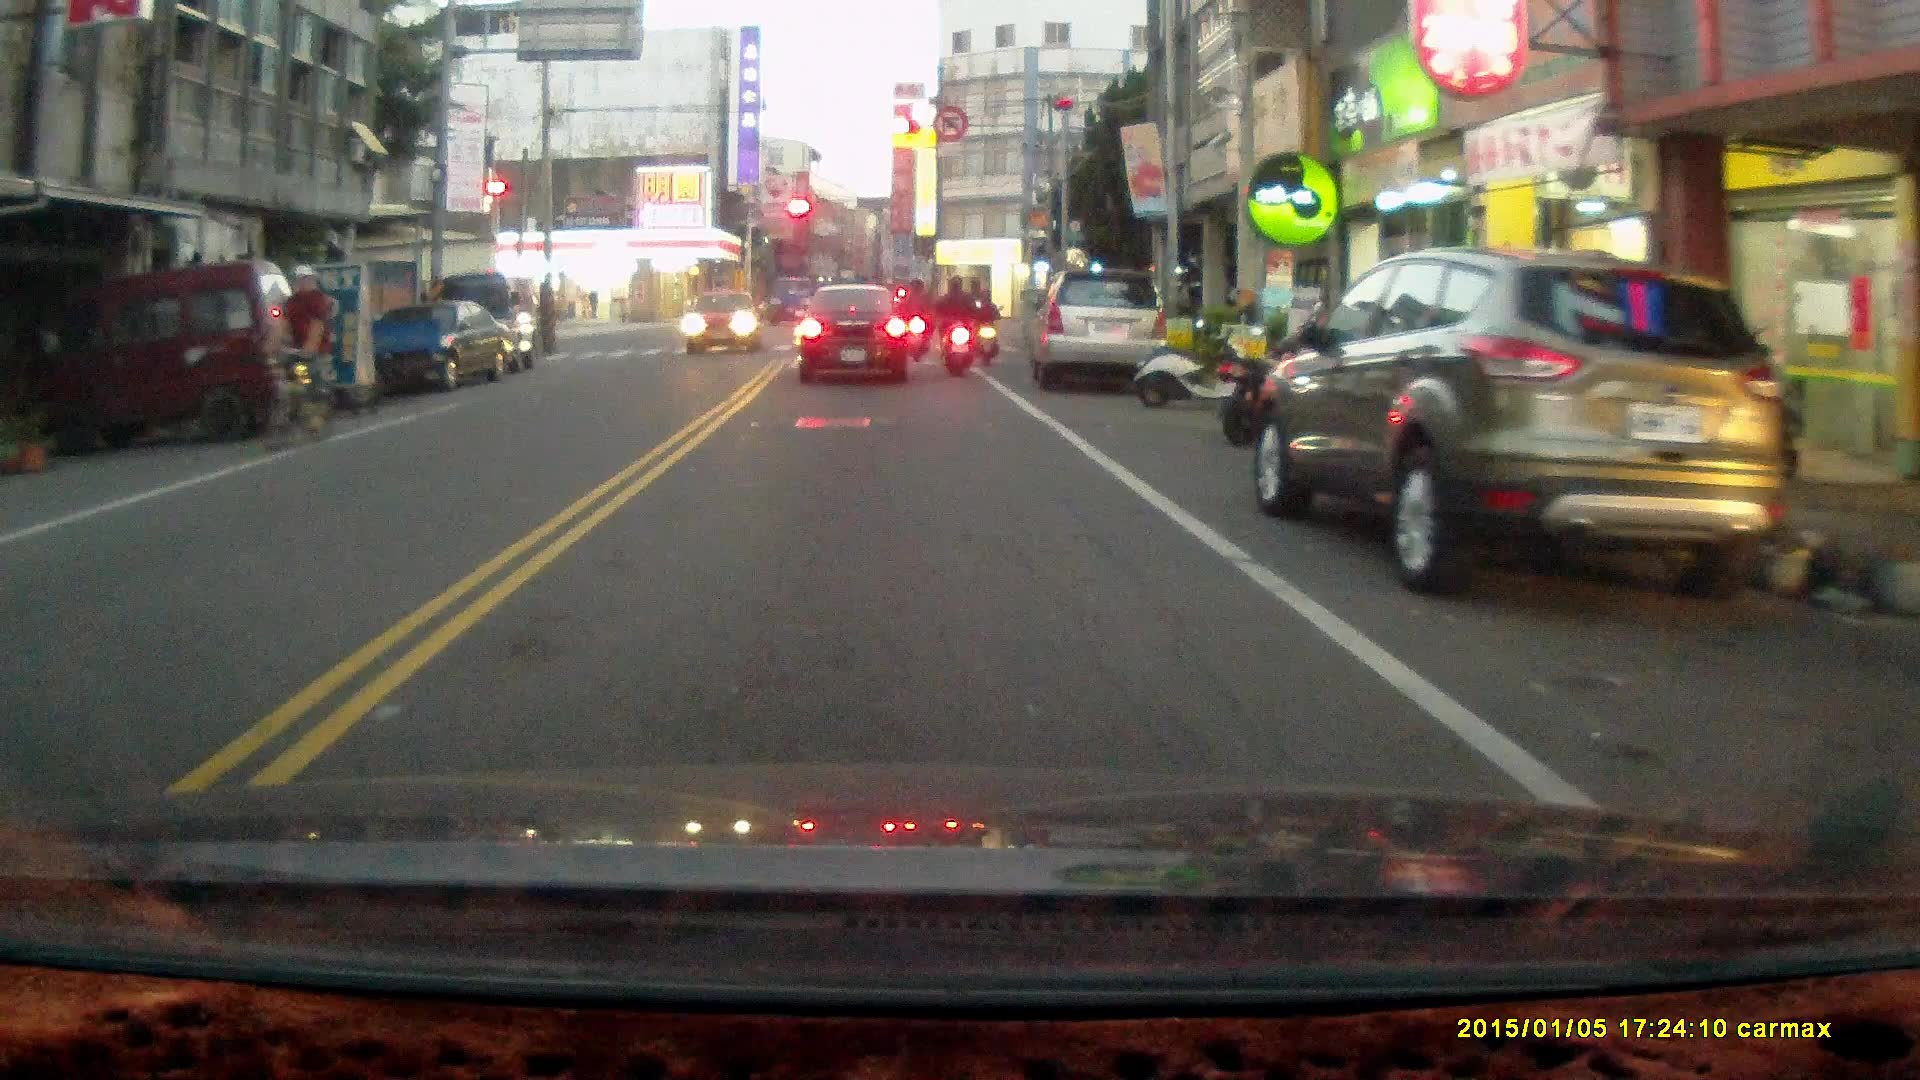rider: (258, 263, 336, 455), (932, 271, 981, 378), (895, 273, 932, 362), (971, 284, 1001, 366)
vehicle: (1255, 248, 1788, 603), (25, 260, 311, 446), (1029, 268, 1172, 394), (375, 297, 508, 393), (800, 281, 915, 387), (688, 289, 767, 357)
